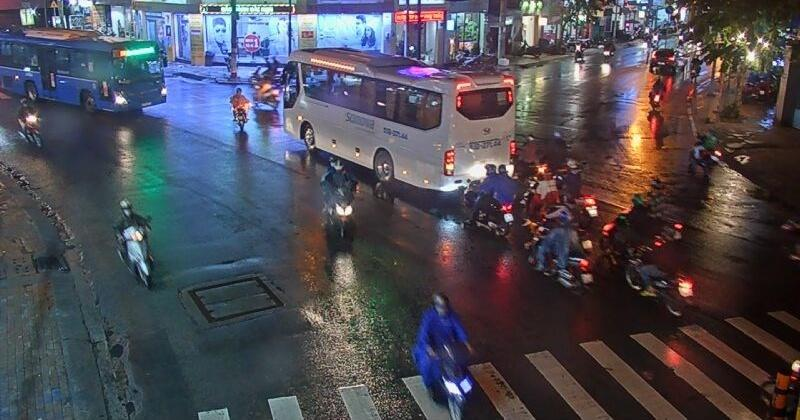xe buyt: (281, 46, 514, 191), (0, 27, 166, 111)
xe may: (415, 295, 471, 420), (465, 162, 516, 236), (113, 197, 153, 288), (320, 157, 358, 242), (13, 97, 44, 148), (227, 86, 250, 132)
